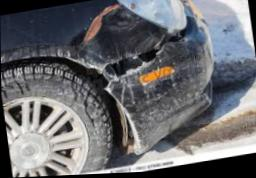Bumper: (96, 22, 213, 160)
Fender: (58, 3, 173, 69)
